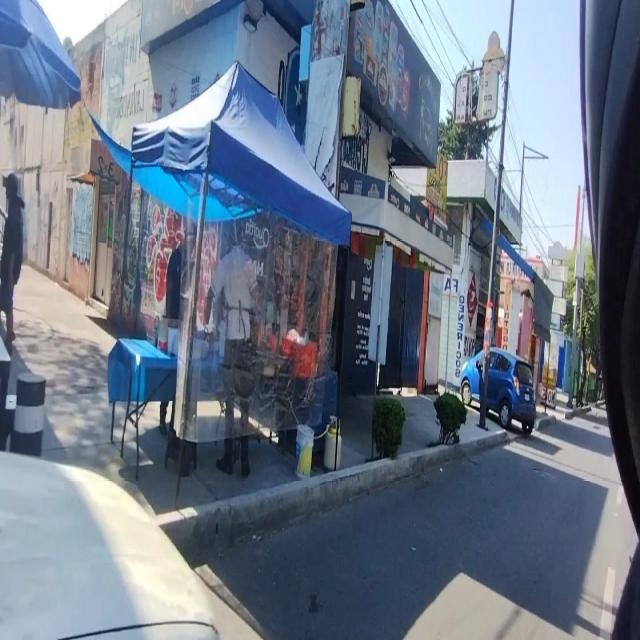adult: (204, 224, 258, 476), (0, 173, 24, 350)
